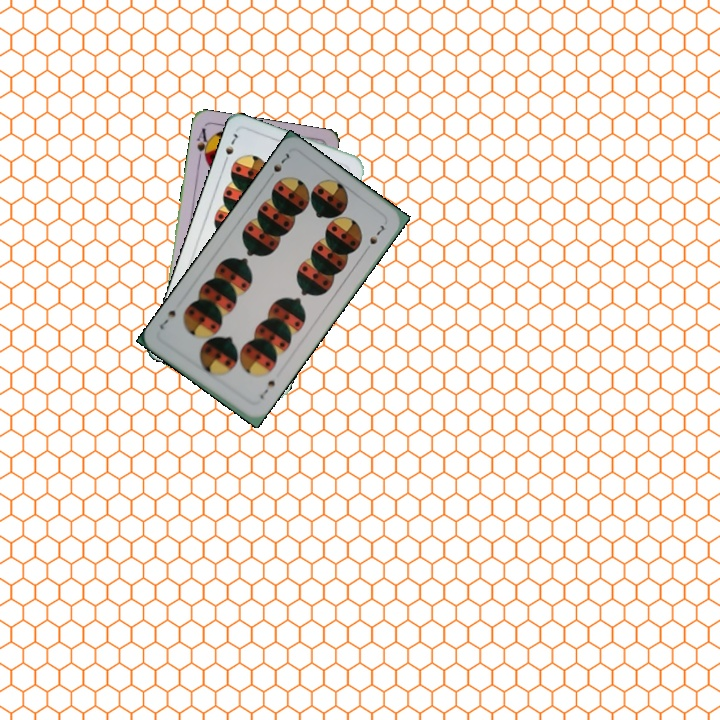S7: (220, 129, 240, 167), (269, 149, 293, 175), (255, 376, 278, 402)
SA: (193, 124, 213, 165)
